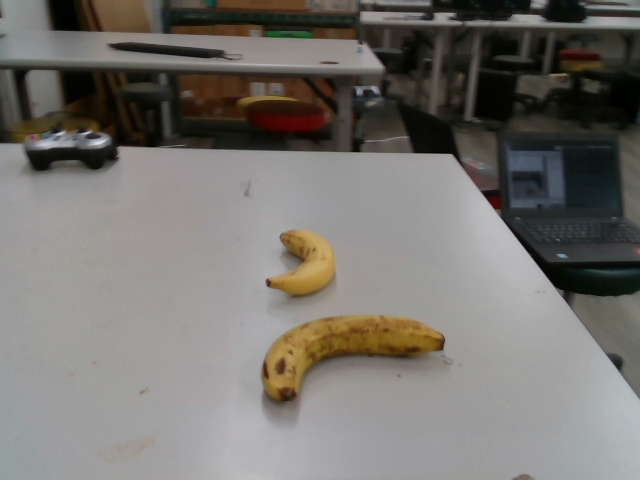banana: (261, 312, 443, 404), (261, 225, 337, 296)
